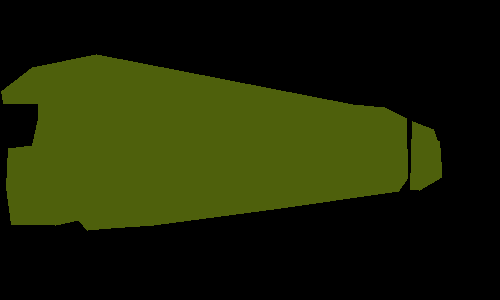Train: (1, 54, 441, 230)
